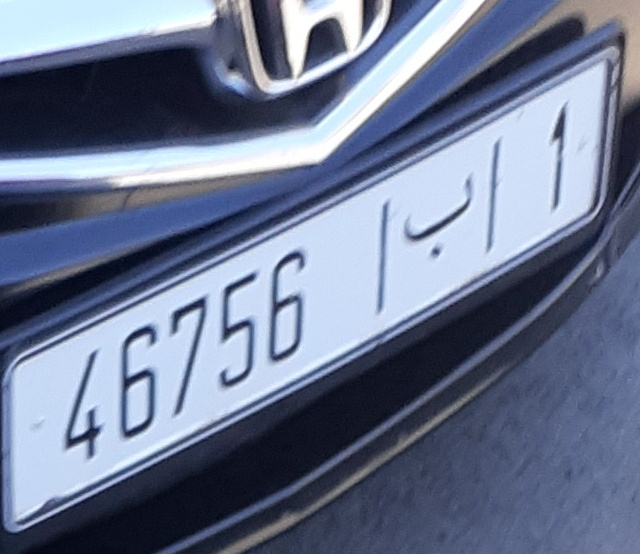1: (540, 98, 572, 216)
4: (49, 339, 111, 464)
5: (213, 260, 264, 396)
6: (258, 244, 312, 369), (111, 317, 164, 444)
7: (159, 290, 210, 414)
b: (396, 174, 482, 263)
